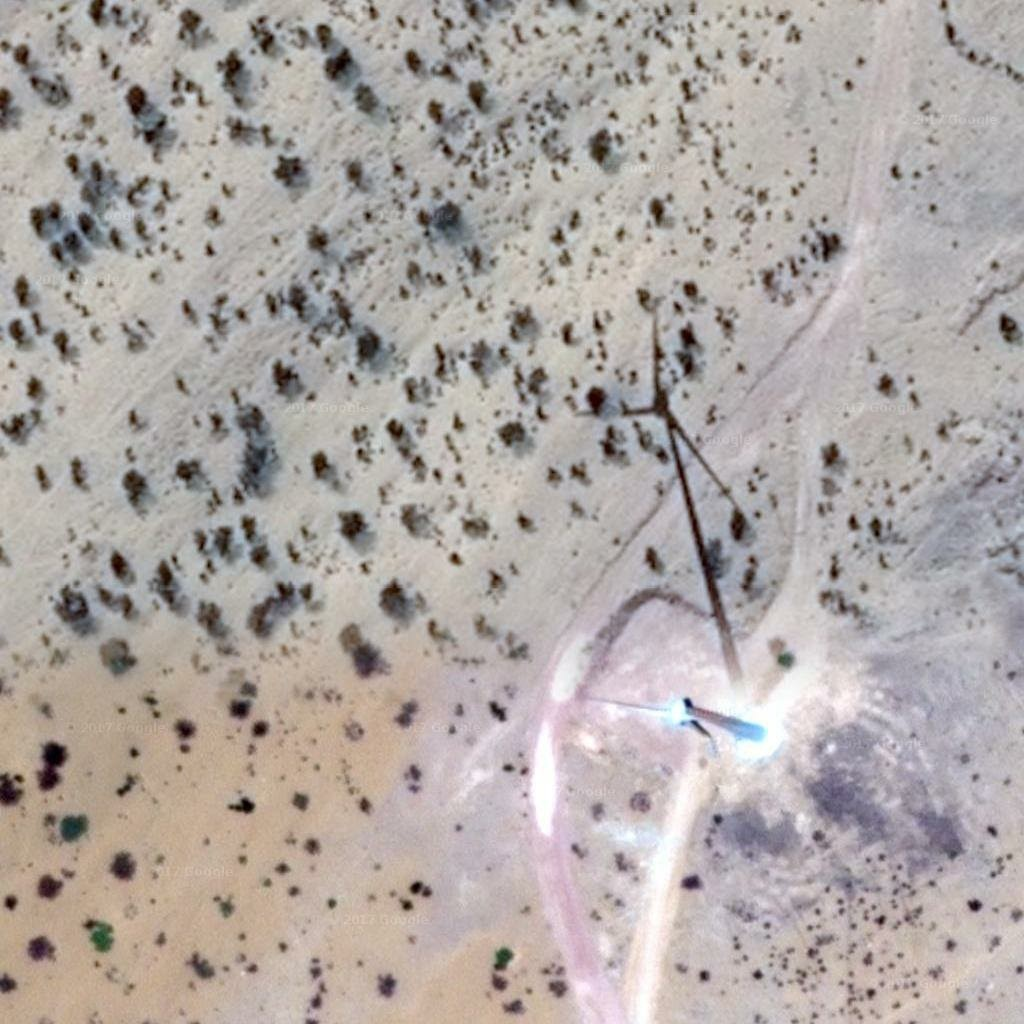Windmill: (566, 301, 760, 687)
